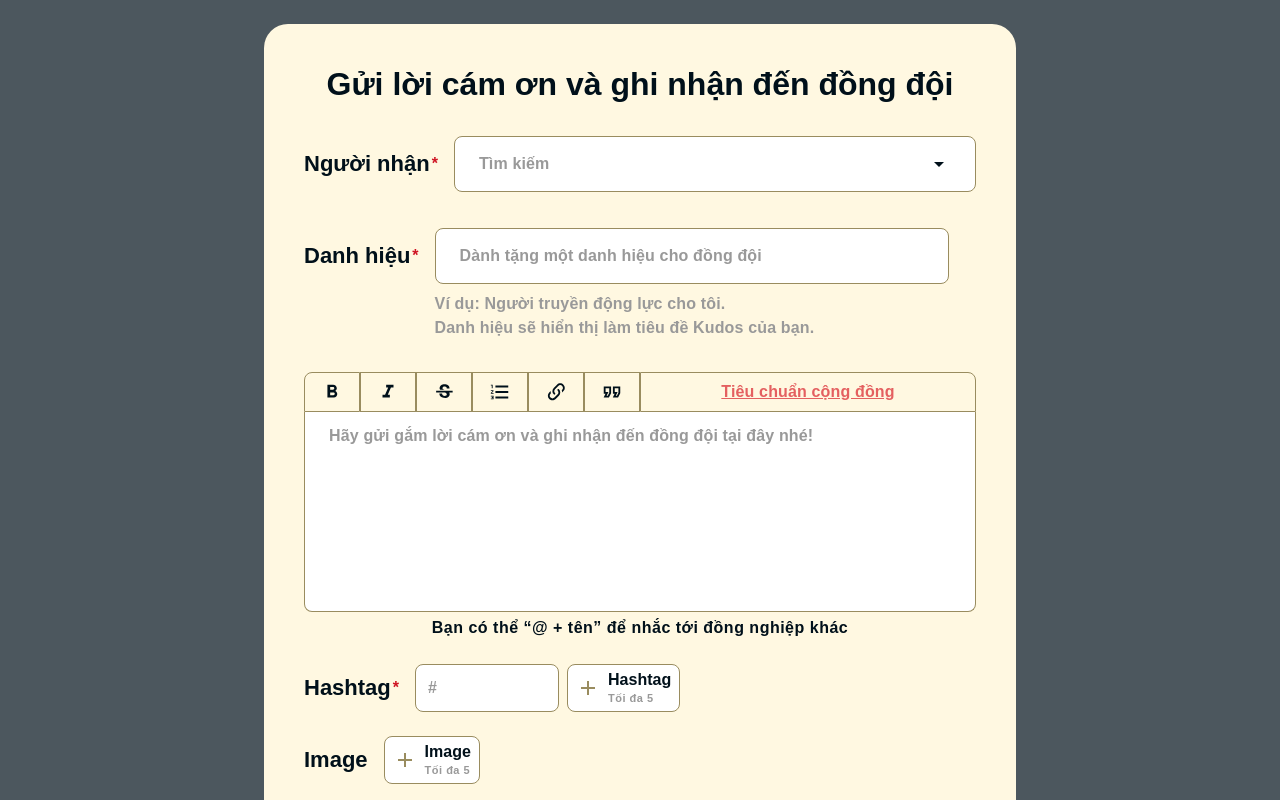
Test: KudosComposeController › debounces the recipient search and fills the picked Sunner
In the dropdown: (699, 164) 479,152 -> 919,176, type "l"
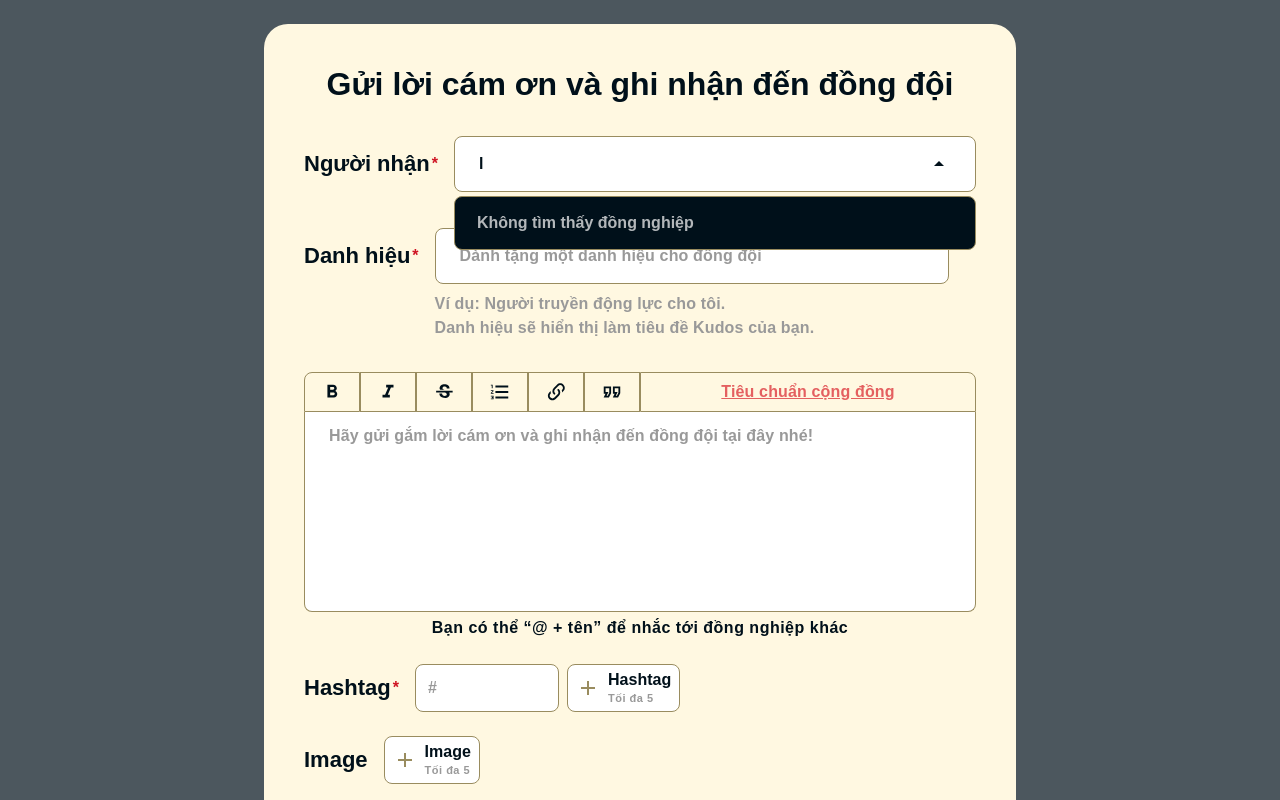
Replace the text in the dropdown with "lan": (699, 164) 479,152 -> 919,176
Wait 250 ms
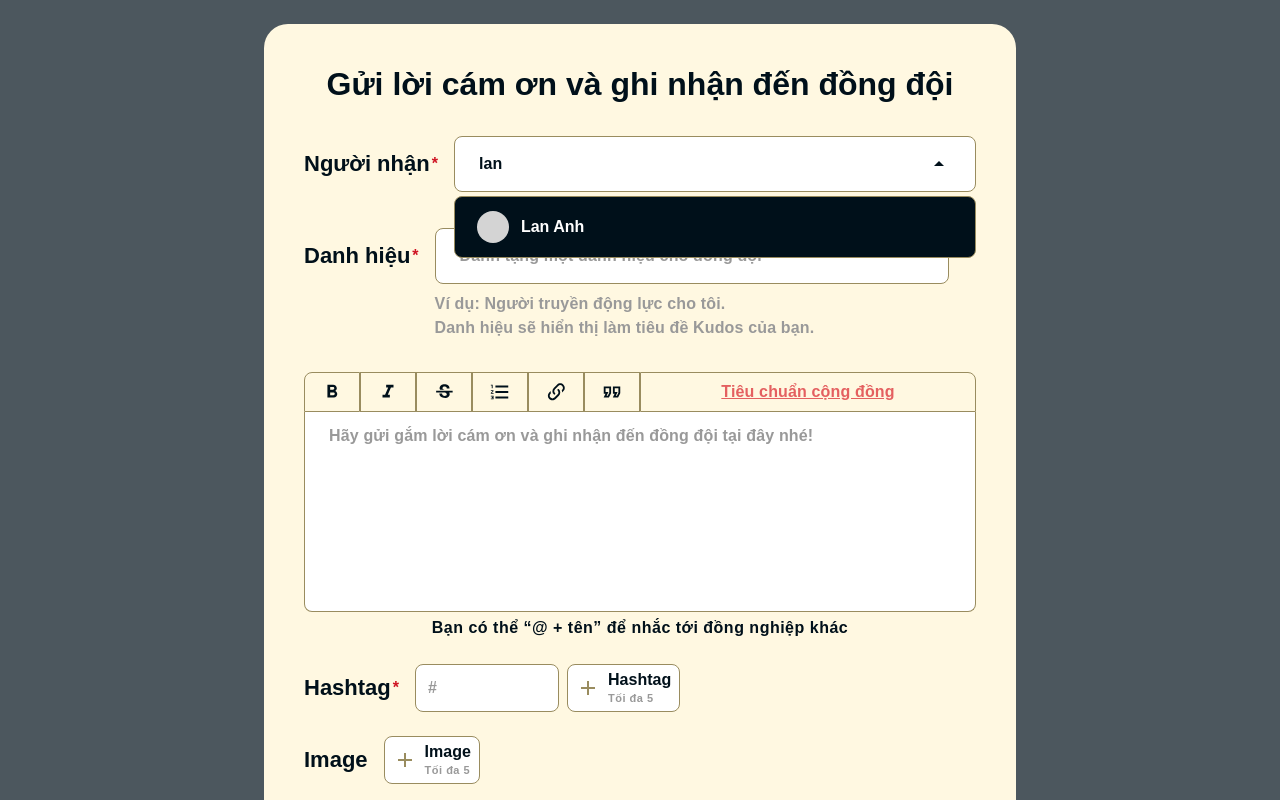
Click the button "Lan Anh": (493, 227) 461,203 -> 969,251
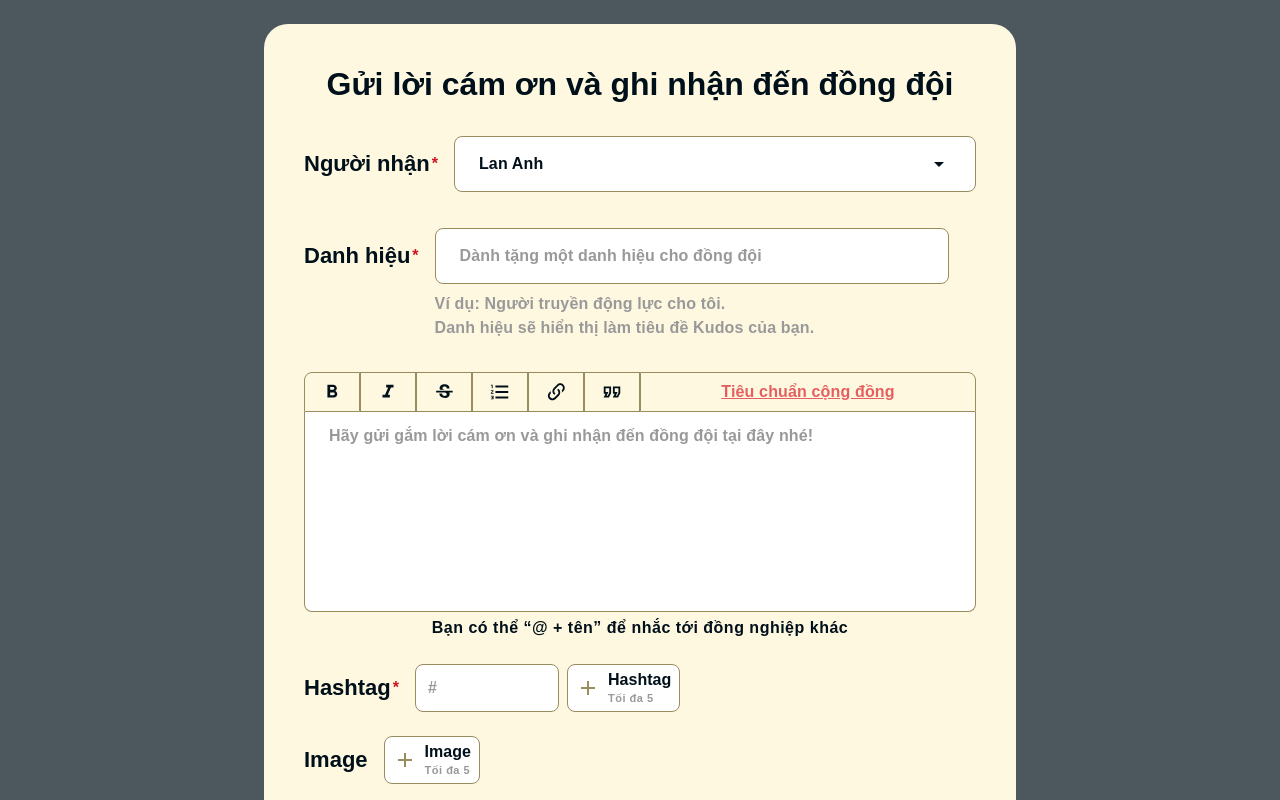
Check: the dropdown holds "Lan Anh", box 479,152 -> 919,176
